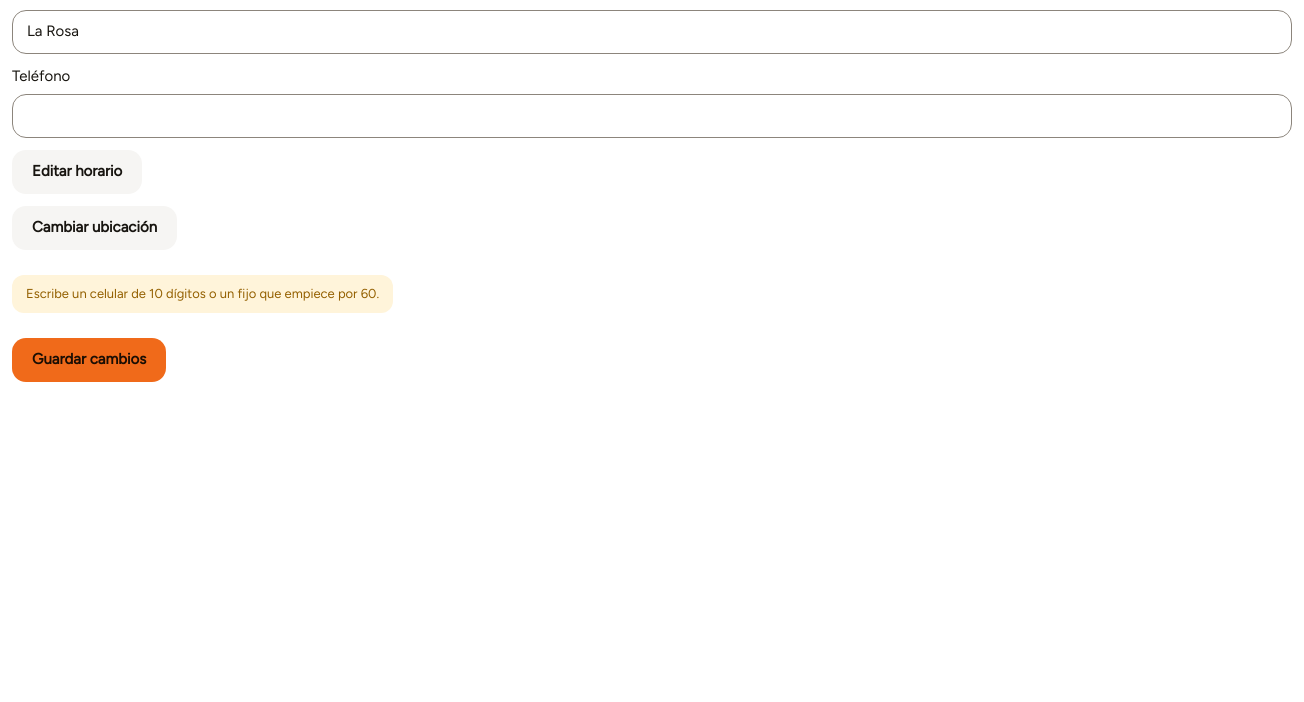
Test: valida y publica el horario semanal de la tienda
Earlier steps of the test are not shown.
Click the button "Editar horario". click: (77, 172)
box: [12,150,142,194]
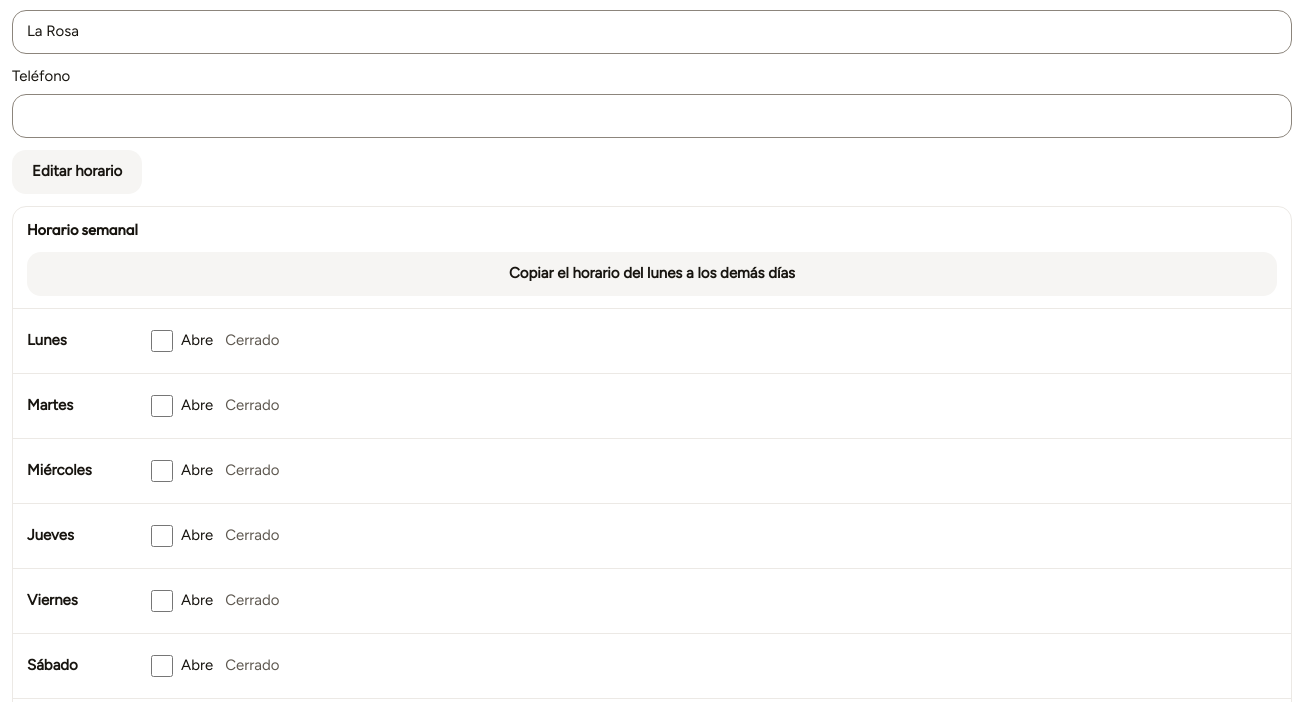
Click the checkbox named "Abre el lunes". click: (162, 341)
box: [151,330,173,352]
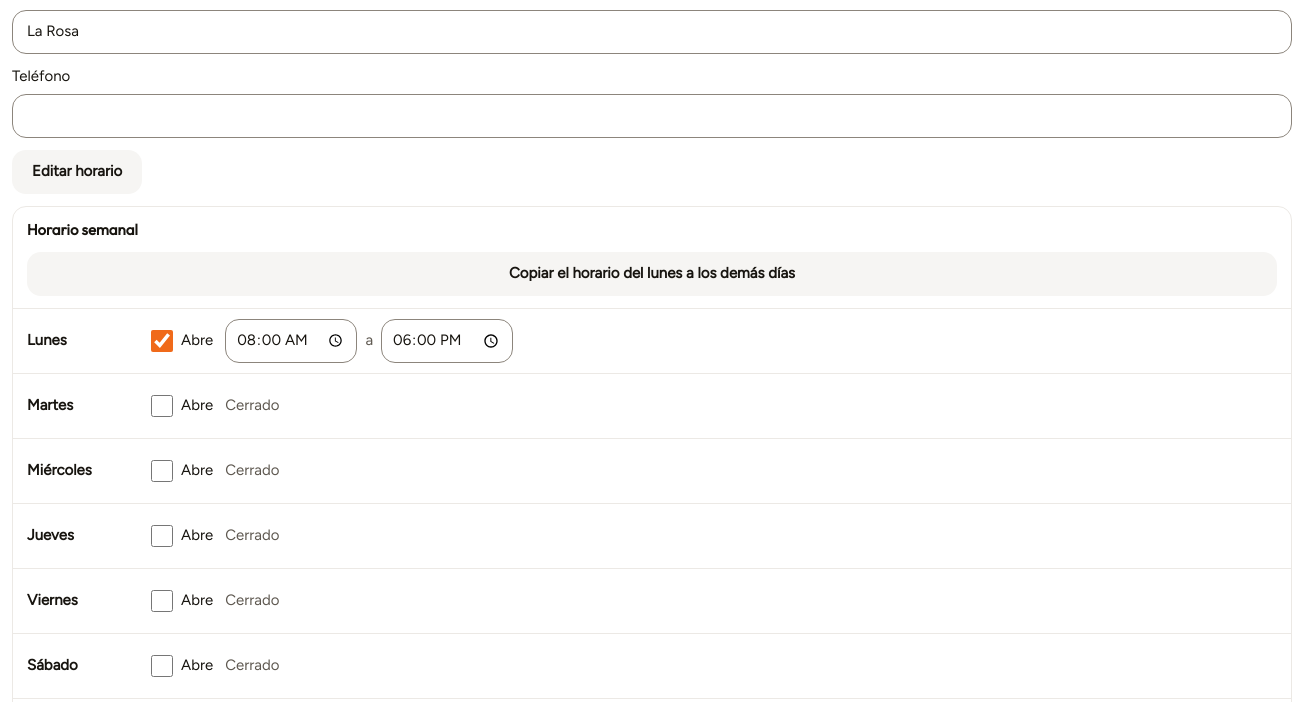
Replace the text in the time field named "Apertura del lunes" with "09:00". click: (291, 341)
box: [225,319,357,363]
Replace the text in the time field named "Cierre del lunes" with "07:00". click: (447, 341)
box: [381,319,513,363]
(page scrolled)
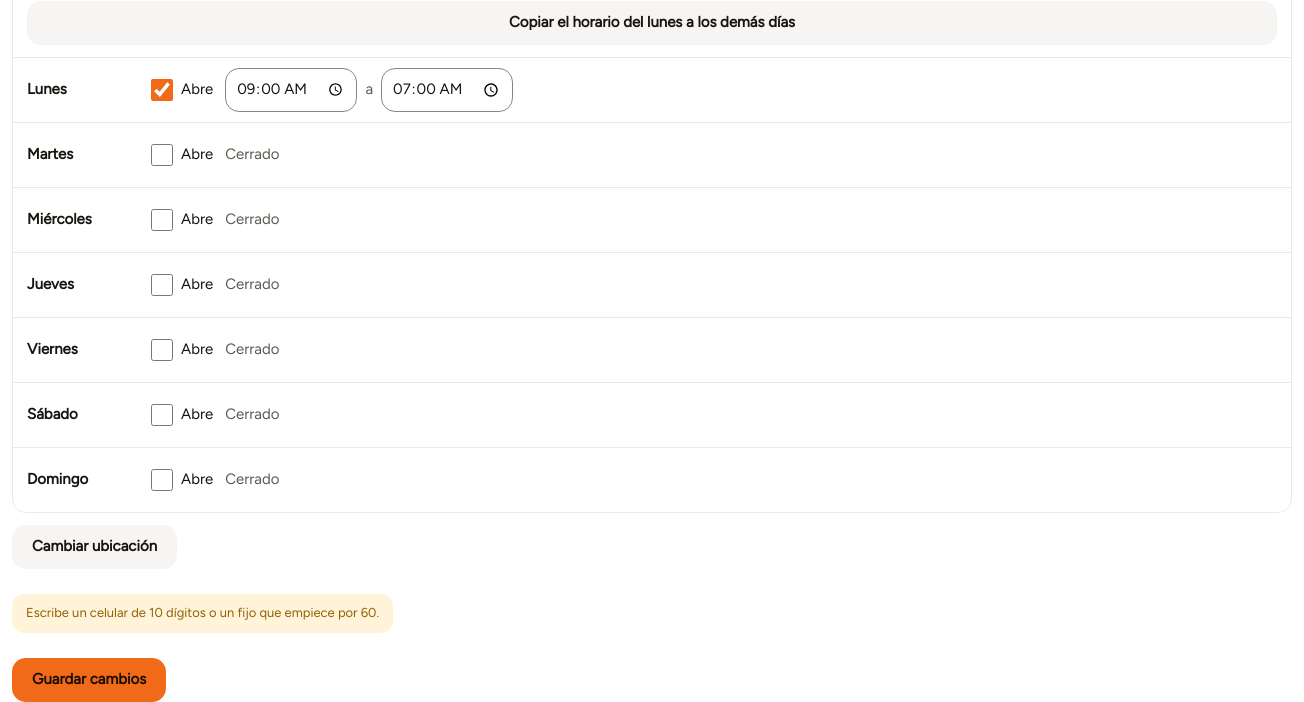
Click the button "Guardar cambios". click: (89, 680)
box: [12,658,166,701]
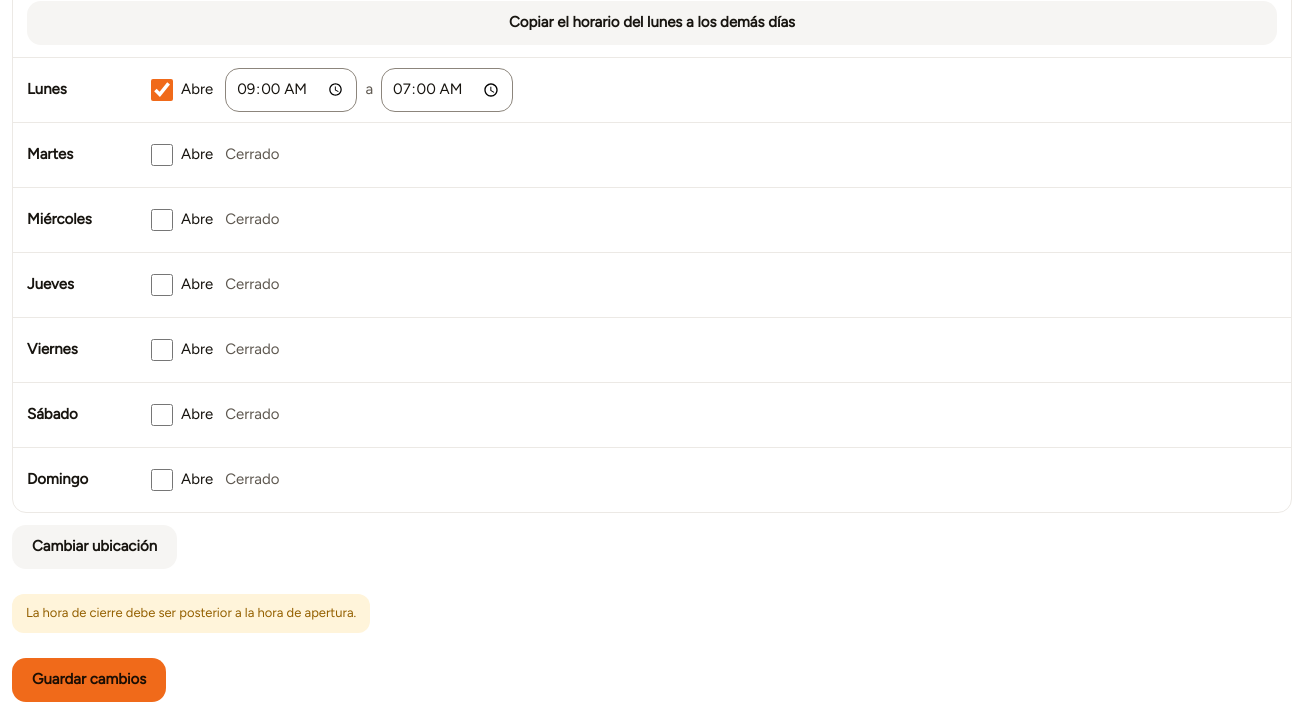
expect the message shows "La hora de cierre": met, box [26,605,356,620]
Replace the text in the time field named "Cierre del lunes" with "17:00". click: (447, 90)
box: [381,68,513,112]
Click the button "Guardar cambios". click: (89, 680)
box: [12,658,166,701]
(page scrolled)
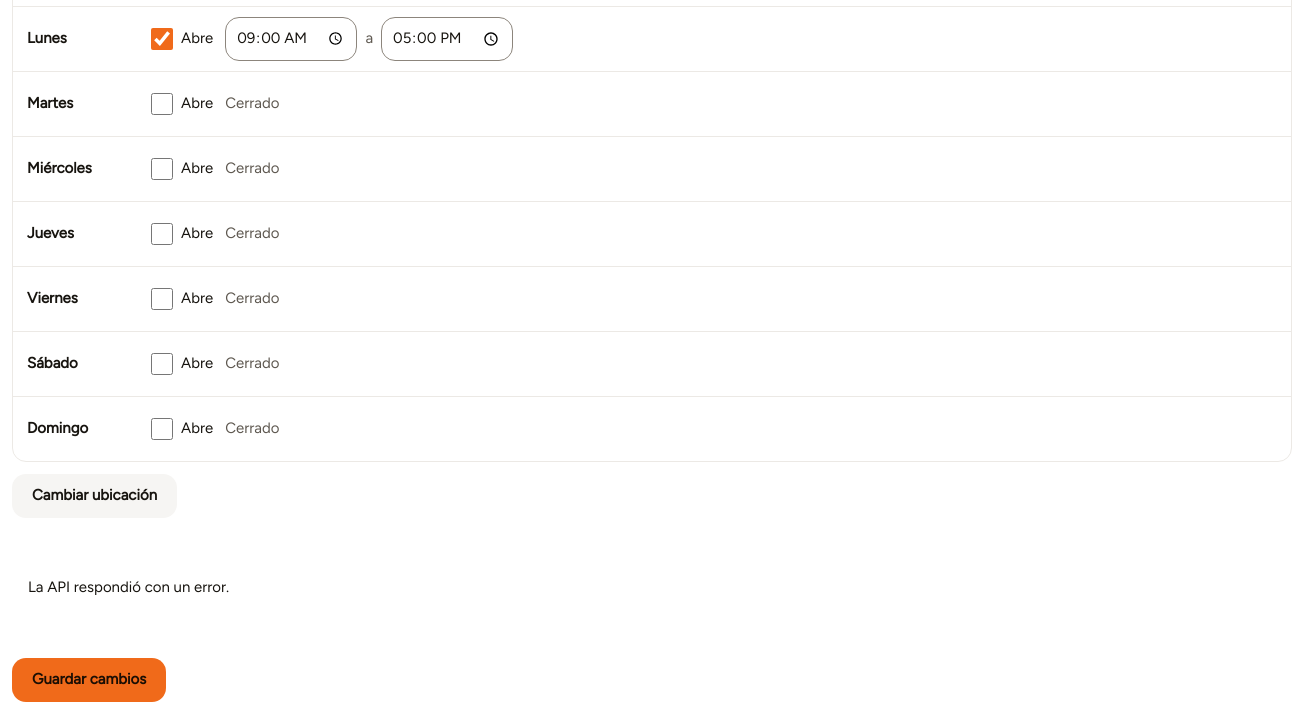
expect the message "La API respondió con un error." is shown: met, box [28,578,229,596]
Click the button "Guardar cambios". click: (89, 680)
box: [12,658,166,701]
(page scrolled)
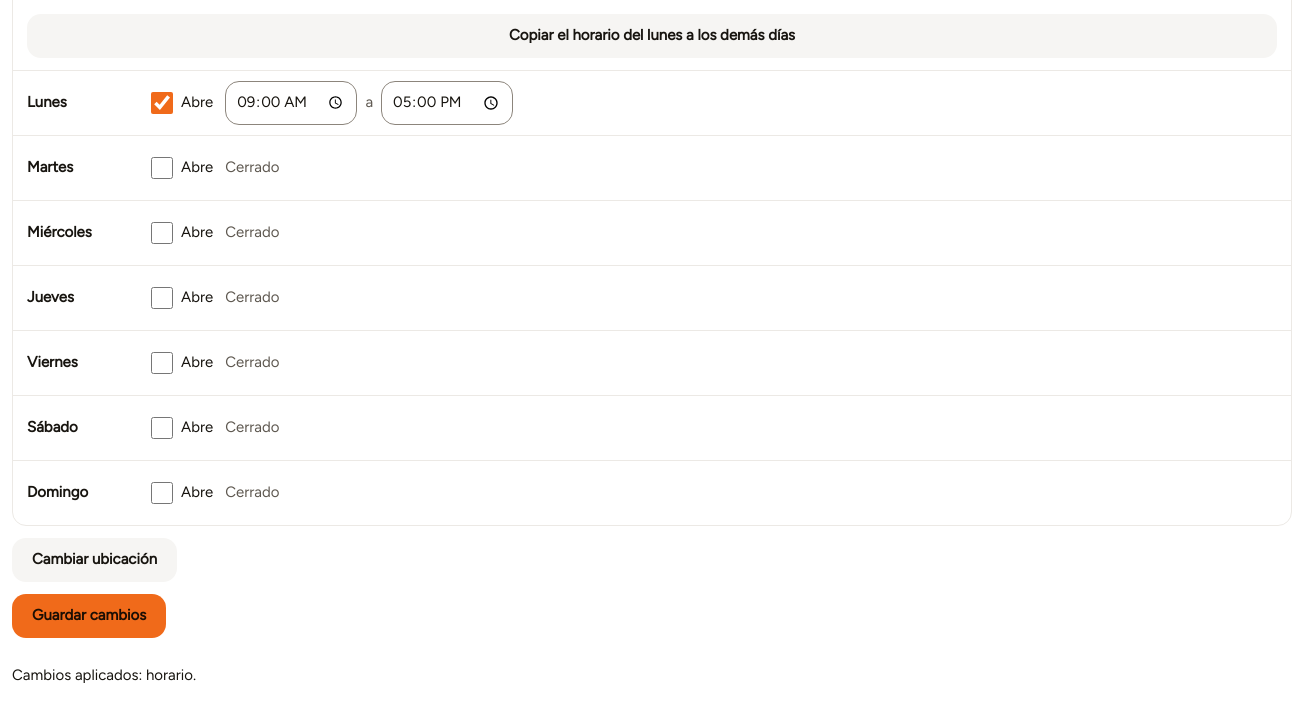
expect the text "Cambios aplicados: horario." is shown: met, box [12,665,196,687]
